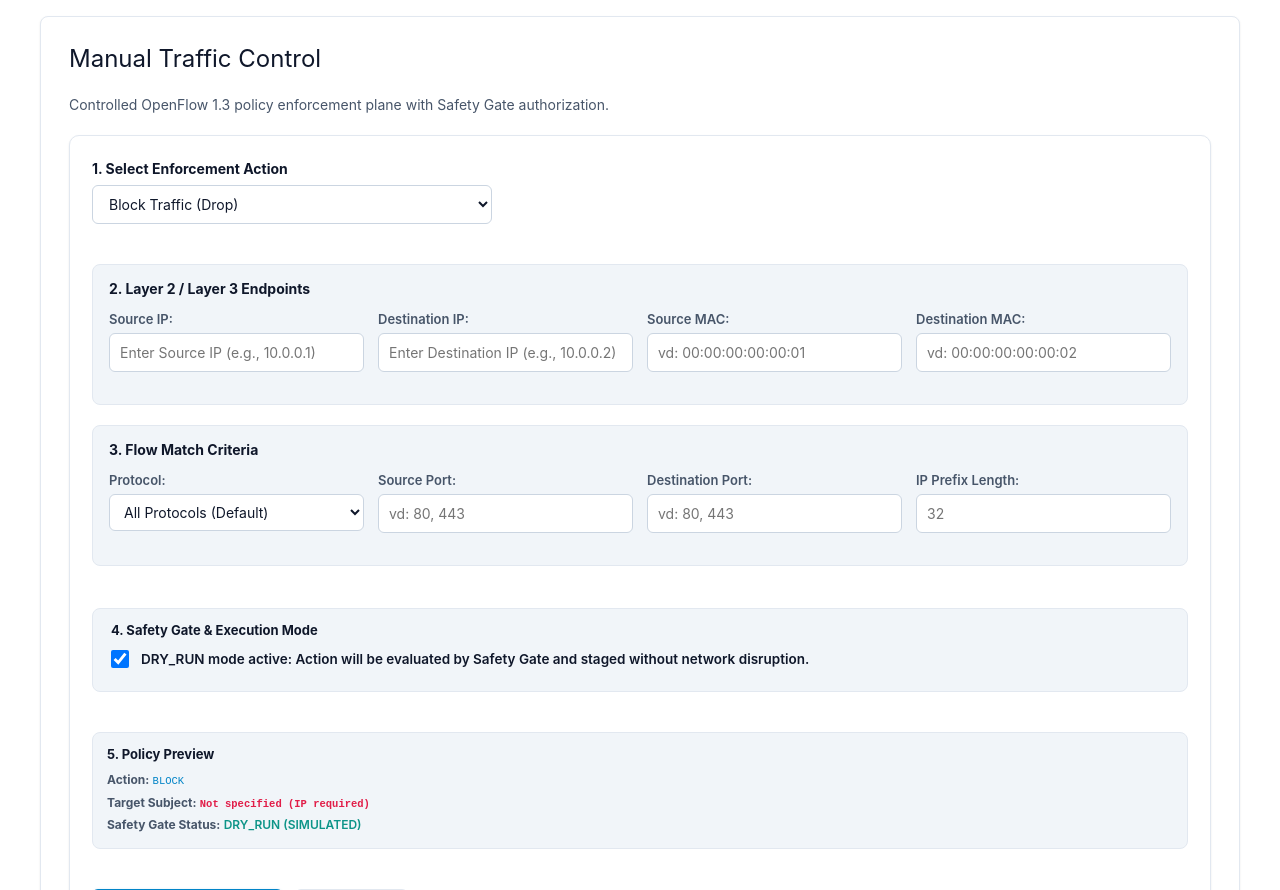
Test: ManualTrafficControl 5-Step Execution Workflow › verifies English localization and 5-step numbering for rate-limit action
This screenshot has width=1280, height=890.
// Change action to rate-limit
Select "Rate Limit (Meter)" in the dropdown below "1. Select Enforcement Action" at (292, 204), box [92,185,492,224]
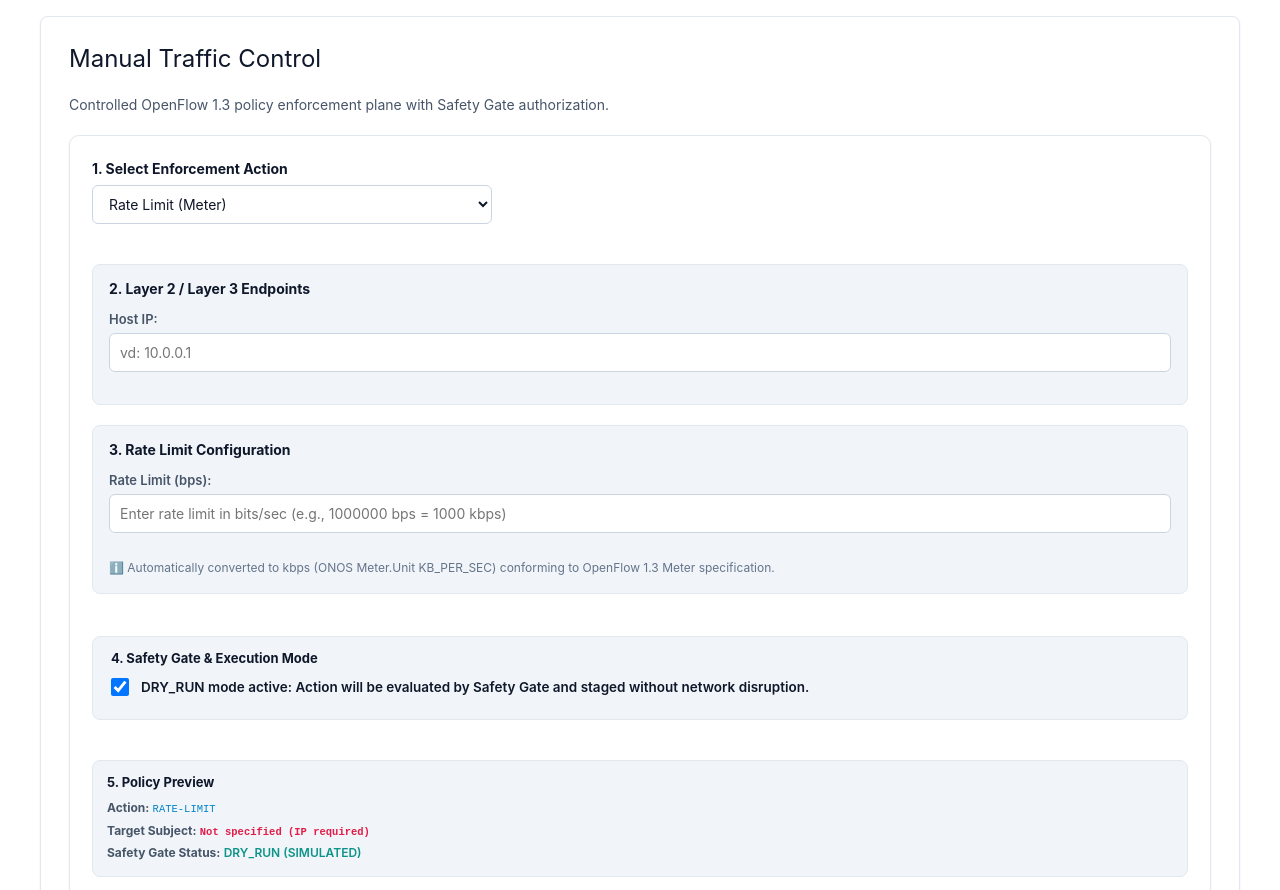
expect the heading "3. Rate Limit Configuration" is shown: met, box [109,441,290,458]
expect the number field with placeholder "1000000 bps" is shown: met, box [109,494,1171,533]
expect the text "OpenFlow 1.3 Meter" is shown: met, box [127,560,775,575]
